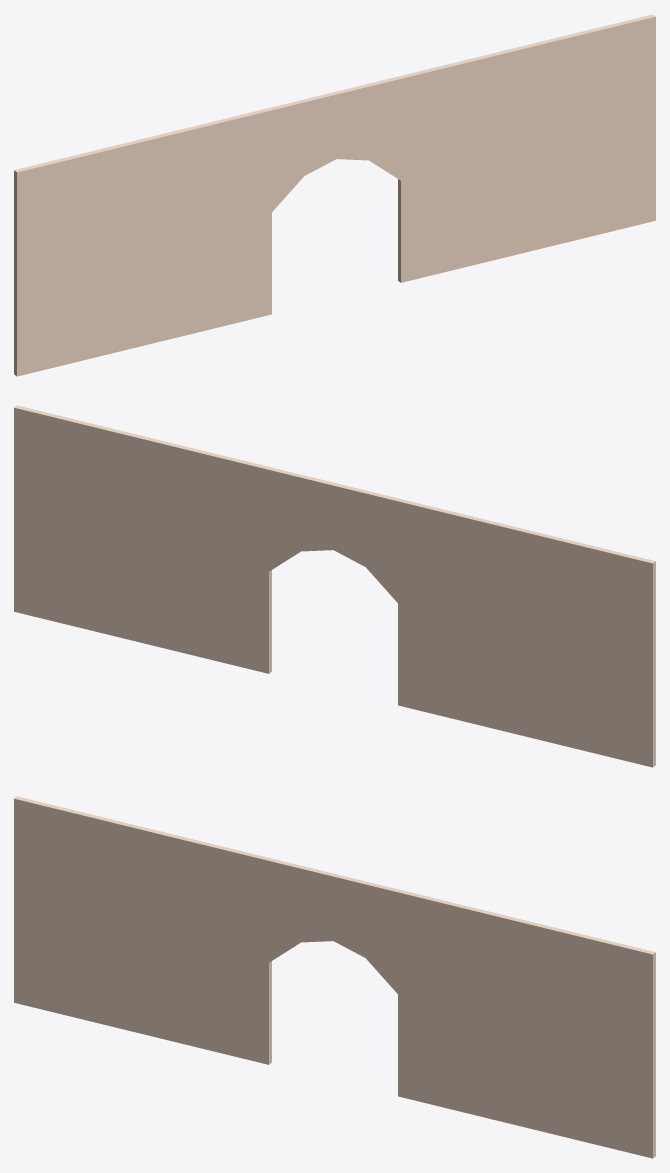
File: Parede2.fbx
The picture shows the model from 3 angles, top to bottom: view 1: azimuth 30°, elevation 25°; view 2: azimuth 150°, elevation 25°; view 3: azimuth 330°, elevation 25°; orthographic projection.
Parts seen in each view (by area): view 1: polySurface483; view 2: polySurface483; view 3: polySurface483.
Boxes of the visible parts, box(x1,y1,x2,y2) form: polySurface483: box(14, 14, 655, 376); polySurface483: box(14, 405, 655, 767); polySurface483: box(14, 796, 655, 1158).
Bounding box in the file's own units: 1411 × 431 × 12.
